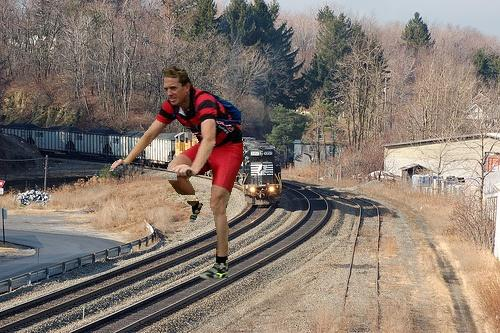tampered: (110, 67, 243, 279)
